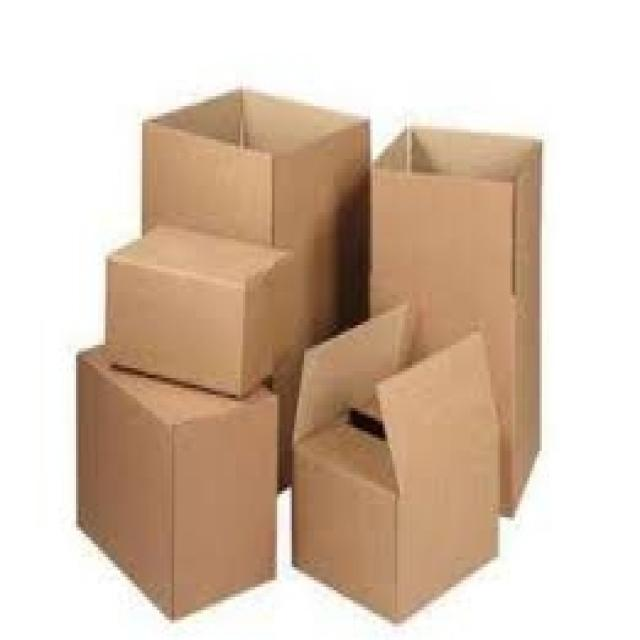cardboard paper: (370, 125, 539, 512), (292, 304, 497, 617), (144, 91, 366, 349), (76, 346, 275, 616), (106, 227, 296, 394)
